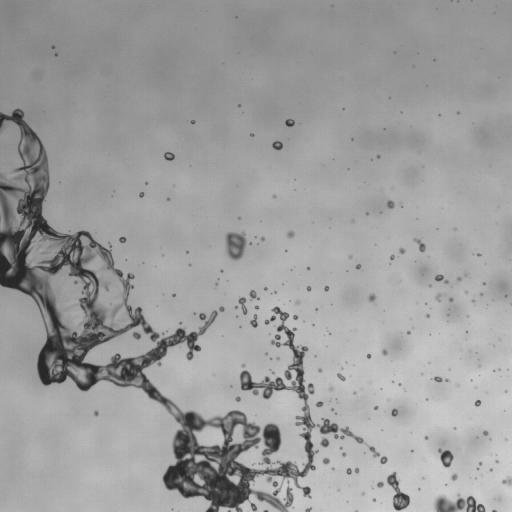droplet: (225, 232, 247, 260), (438, 448, 453, 467), (235, 297, 247, 314), (435, 274, 448, 283), (502, 476, 511, 487), (272, 141, 282, 150), (320, 437, 329, 447), (249, 290, 258, 299), (164, 152, 174, 160), (285, 119, 294, 126), (132, 332, 141, 339), (432, 376, 442, 382), (387, 200, 394, 208), (368, 294, 375, 302), (337, 373, 345, 380), (435, 293, 441, 301), (391, 408, 397, 416), (287, 231, 294, 237), (316, 401, 323, 407), (322, 458, 329, 464), (451, 474, 457, 480), (119, 237, 126, 242), (399, 248, 405, 253), (382, 349, 387, 355), (475, 400, 480, 406), (346, 468, 351, 474), (377, 482, 383, 487), (324, 286, 329, 291), (219, 306, 224, 311), (235, 396, 240, 401), (483, 430, 488, 435), (354, 468, 359, 473), (305, 507, 311, 511), (139, 192, 143, 197), (356, 264, 360, 269), (293, 315, 298, 319), (260, 237, 264, 241), (390, 255, 394, 259), (457, 277, 461, 281), (307, 286, 311, 290), (254, 305, 258, 309), (367, 354, 371, 358), (94, 411, 98, 415), (342, 452, 346, 456), (38, 244, 41, 248), (241, 364, 245, 367), (318, 368, 321, 372), (374, 406, 377, 410), (191, 120, 194, 123), (477, 253, 480, 256), (449, 298, 452, 301), (296, 301, 299, 304), (407, 331, 410, 334), (271, 371, 274, 374), (479, 462, 482, 465), (251, 133, 253, 136), (307, 266, 309, 269), (172, 294, 175, 296), (427, 314, 429, 317), (330, 387, 332, 390), (331, 408, 333, 411), (425, 436, 427, 439), (238, 104, 240, 106), (273, 195, 275, 197), (167, 198, 169, 200), (483, 283, 485, 285), (264, 287, 266, 289), (446, 379, 448, 381), (398, 383, 400, 385)
ligament: (0, 109, 365, 511), (387, 472, 410, 511), (433, 494, 485, 511), (368, 445, 387, 463), (414, 238, 425, 252), (250, 314, 257, 327), (119, 319, 125, 322), (263, 510, 268, 511), (492, 510, 496, 511)
